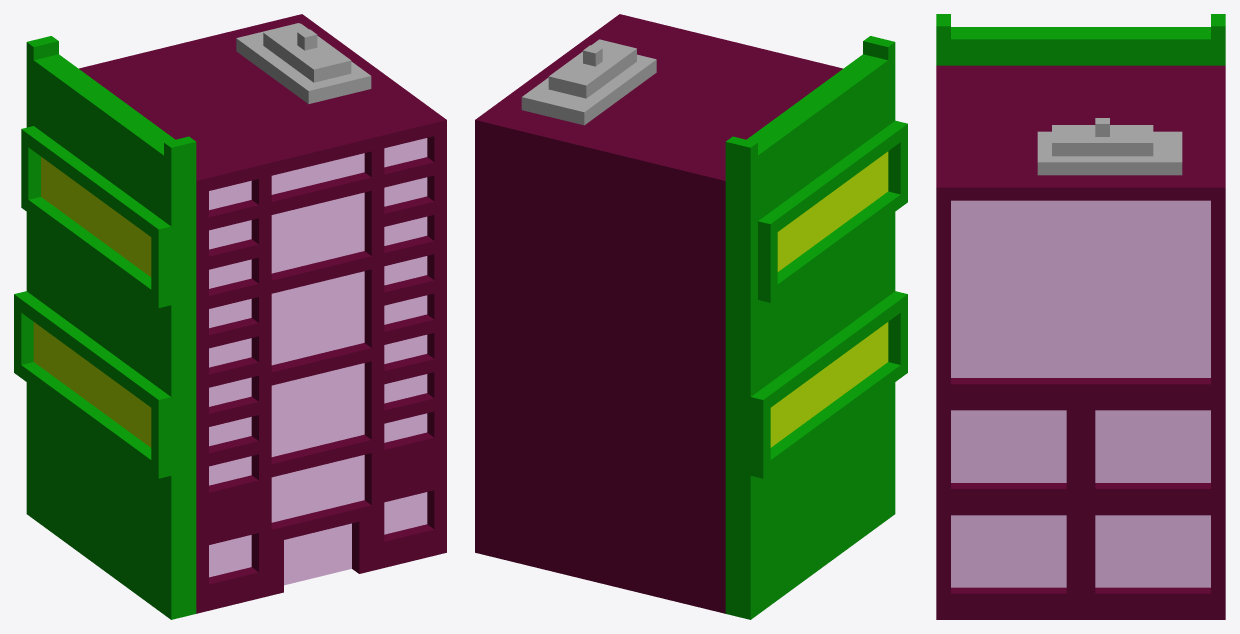
Rendered from edificio3.obj.
The picture shows the model from 3 angles, left to right: view 1: azimuth 30°, elevation 25°; view 2: azimuth 150°, elevation 25°; view 3: azimuth 270°, elevation 25°; orthographic projection.
Size of the model in its own units: 2.3 by 3.6 by 2.
Materials: 1 (1 with a texture image).
